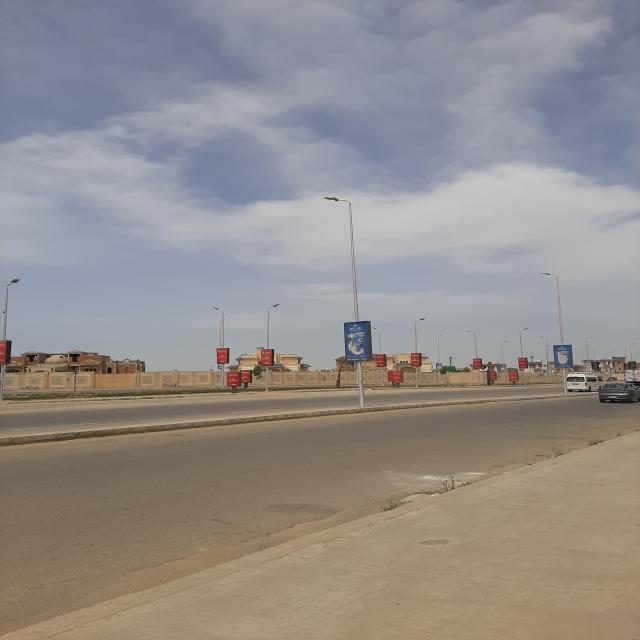Street Light: (323, 195, 366, 408), (540, 272, 568, 394), (0, 279, 21, 403), (264, 304, 280, 391), (213, 306, 225, 389), (414, 318, 426, 387), (466, 331, 481, 384), (372, 327, 384, 386), (519, 328, 529, 384), (539, 336, 550, 382), (438, 335, 443, 382)
